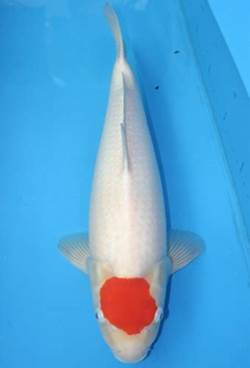sun: (56, 3, 206, 365)
